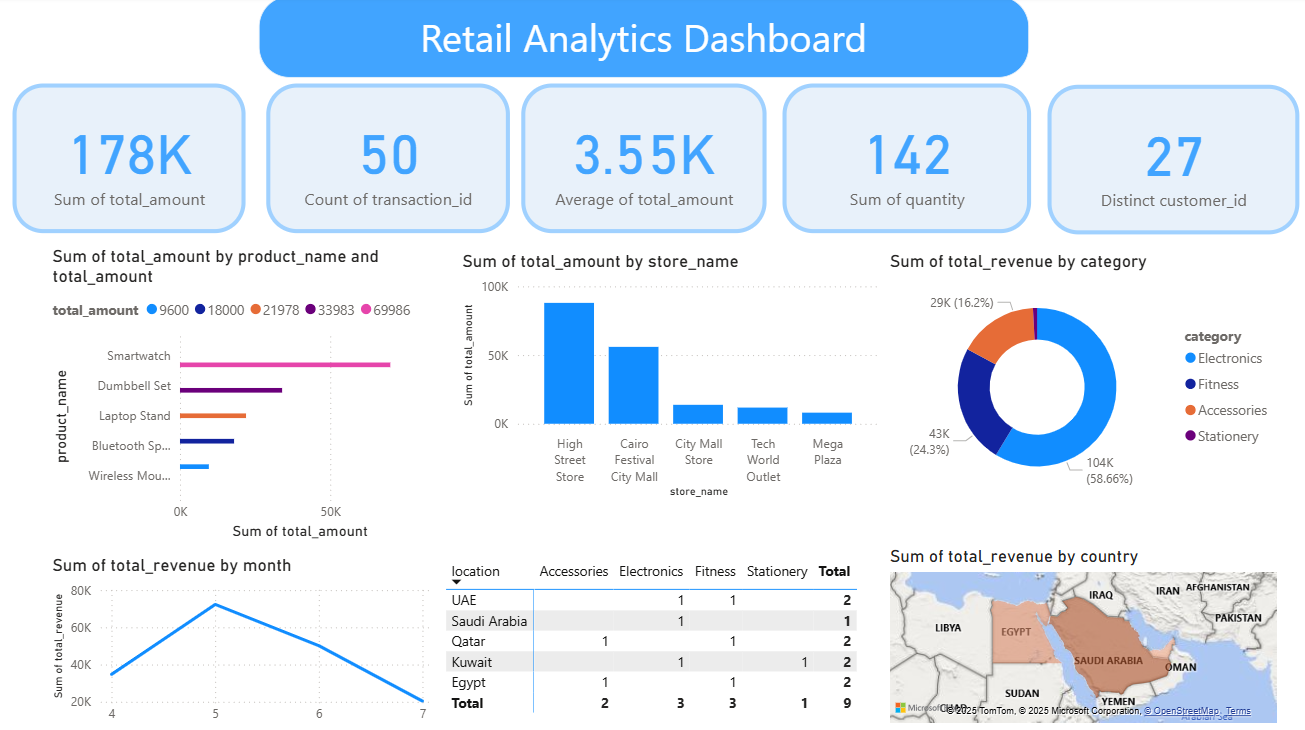

The dashboard page shown, as its layout file describes it:
{"tool":"powerbi","page":{"name":"Page 1","canvas":[1280,720],"ordinal":0},"visuals":[{"type":"card","fields":{"Values":["Sum(db_silver.total_amount)"]},"box":[11.7,85.3,228.3,146.7],"z":0},{"type":"card","fields":{"Values":["CountNonNull(db_silver.transaction_id)"]},"box":[260,85.3,238.3,146.7],"z":1000},{"type":"card","fields":{"Values":["Avg(db_silver.total_amount)"]},"box":[510,85.3,240,146.7],"z":2000},{"type":"columnChart","fields":{"Y":["Sum(db_silver.total_amount)"],"Category":["db_silver.store_name"]},"box":[448,250,418,246],"z":3000},{"type":"card","fields":{"Values":["Sum(db_silver.quantity)"]},"box":[765,85.3,243.3,146.7],"z":4000},{"type":"card","fields":{"Values":["Count(db_silver.customer_id)"]},"box":[1025,86.7,246.7,146.7],"z":5000},{"type":"textbox","box":[253.3,0,753.3,80],"z":7000},{"type":"lineChart","fields":{"Category":["monthly_sales_trend_gold.month"],"Y":["Sum(monthly_sales_trend_gold.total_revenue)"]},"box":[46,546,382,174],"z":8000},{"type":"clusteredBarChart","fields":{"Category":["db_top_products_gold.product_name"],"Series":["db_top_products_gold.total_amount"],"Y":["Sum(db_top_products_gold.total_amount)"]},"box":[46.3,245,380,291.7],"z":9000},{"type":"donutChart","fields":{"Category":["category_performance_gold.category"],"Y":["Sum(category_performance_gold.total_revenue)"]},"box":[866,250,388,246],"z":10000},{"type":"pivotTable","fields":{"Rows":["location_category_gold.location"],"Columns":["location_category_gold.category"],"Values":["CountNonNull(location_category_gold.revenue)"]},"box":[432,546,416,162],"z":11000},{"type":"filledMap","fields":{"Category":["country_sales_gold.country"]},"box":[866,538,388,178],"z":12000}]}

Visuals, with their boxes in screenshot pixels (x1, y1, x2, y2), scaled from the page's 1280x720 canvas onto the 1305x730 screenshot:
card - Sum(db_silver.total_amount): (12,86,245,235)
card - CountNonNull(db_silver.transaction_id): (265,86,508,235)
card - Avg(db_silver.total_amount): (520,86,765,235)
columnChart - Sum(db_silver.total_amount) x db_silver.store_name: (457,253,883,503)
card - Sum(db_silver.quantity): (780,86,1028,235)
card - Count(db_silver.customer_id): (1045,88,1297,237)
textbox: (258,0,1026,81)
lineChart - monthly_sales_trend_gold.month x Sum(monthly_sales_trend_gold.total_revenue): (47,554,436,729)
clusteredBarChart - db_top_products_gold.product_name x db_top_products_gold.total_amount: (47,248,435,544)
donutChart - category_performance_gold.category x Sum(category_performance_gold.total_revenue): (883,253,1278,503)
pivotTable - location_category_gold.location x location_category_gold.category: (440,554,865,718)
filledMap - country_sales_gold.country: (883,545,1278,726)
